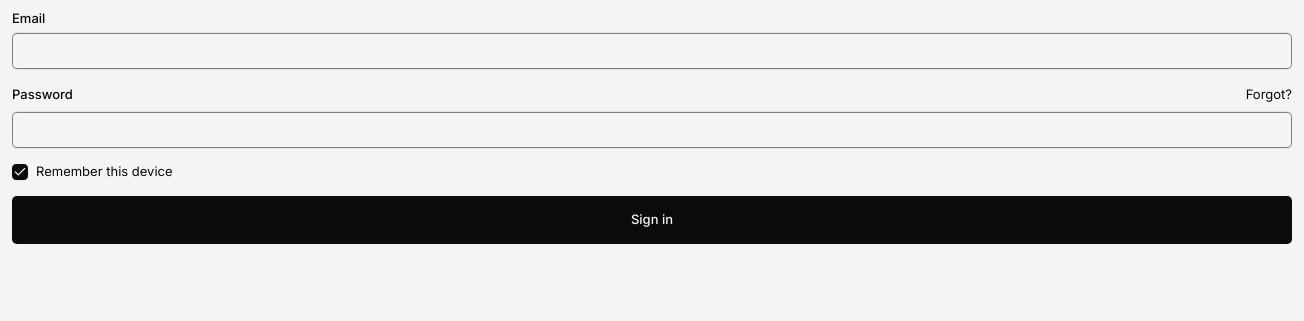
LoginForm when rate-limited › shows the wait once, in minutes, and keeps the button a disabled 'Sign in'
Type "a@b.co" into the field labelled "Email". click: (652, 51)
box: [12,33,1292,69]
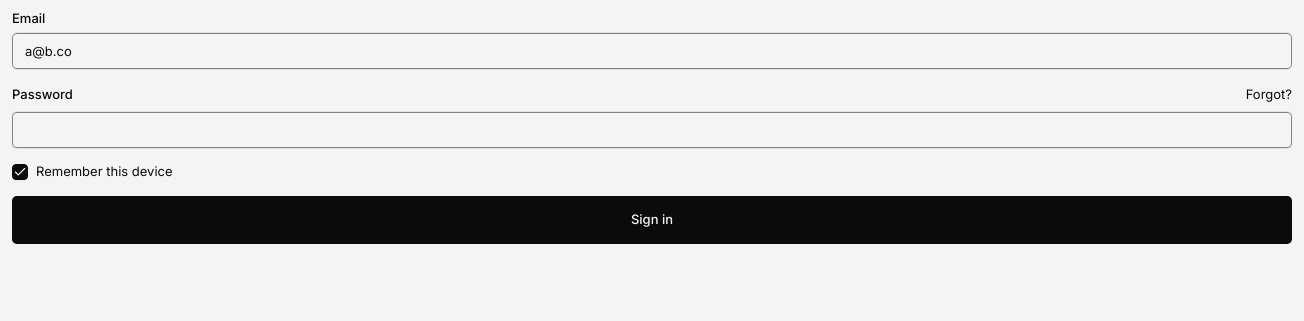
Type "correct horse battery" into the password field labelled "Password". click: (652, 130)
box: [12,112,1292,148]
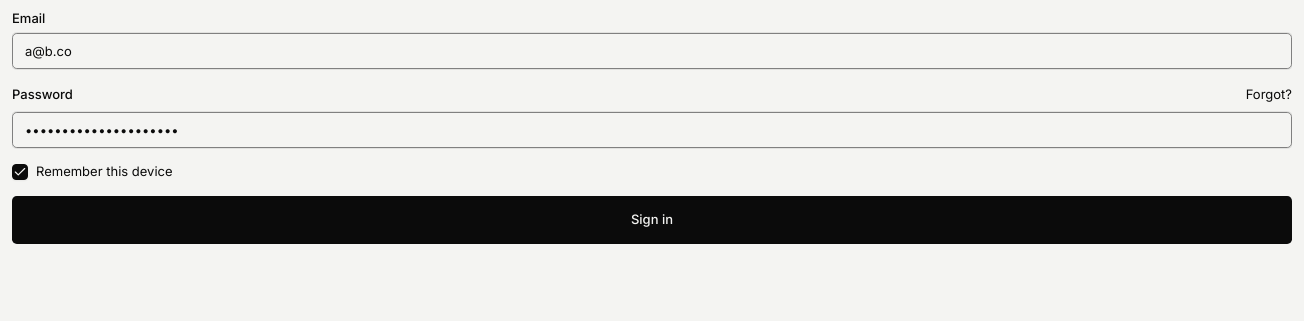
Click the button "Sign in". click: (652, 220)
box: [12,196,1292,244]
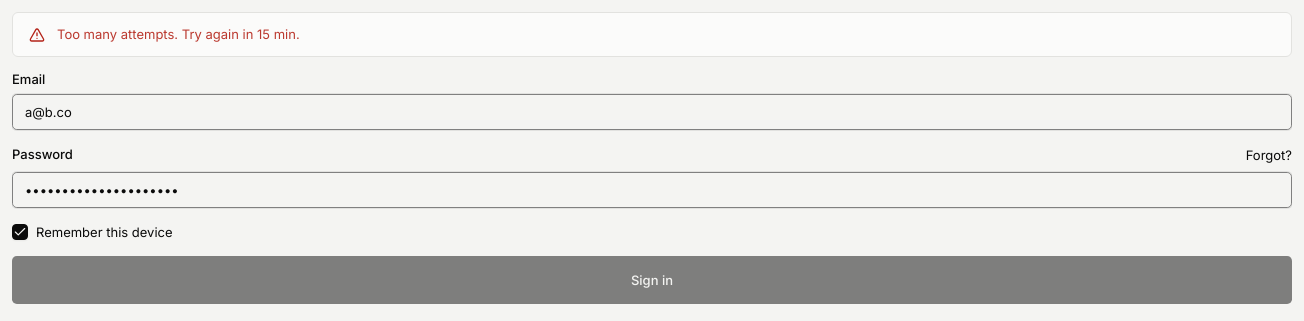
Check: the text "Too many attempts. Try again in 15 min." is shown, box [57,26,300,42]
Check: the button "Sign in" is disabled, box [12,256,1292,304]
